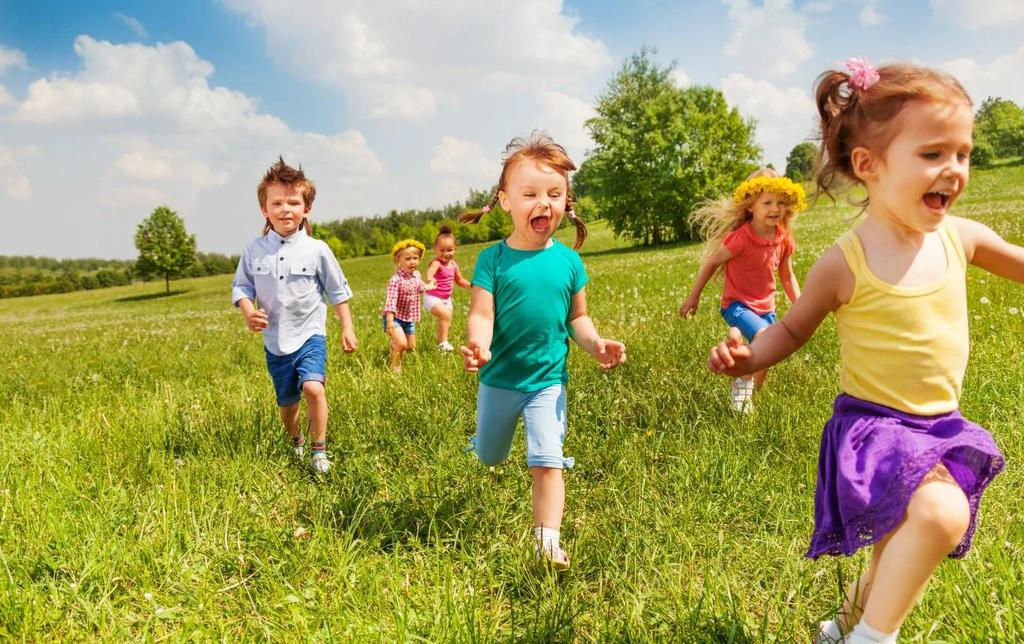child: (761, 59, 1012, 644), (446, 141, 611, 586), (215, 156, 365, 469), (651, 155, 809, 437), (376, 230, 430, 381), (413, 226, 468, 352)
